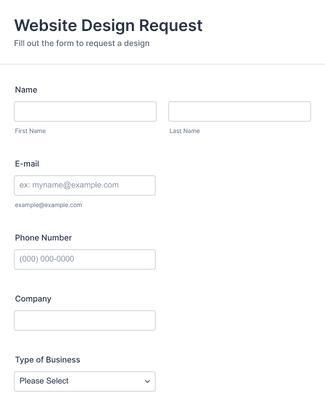dropdown: (14, 371, 157, 393)
input: (14, 174, 157, 198), (167, 100, 314, 123), (13, 101, 159, 124), (13, 248, 158, 271), (14, 309, 158, 332)
label: (14, 17, 207, 35), (14, 40, 152, 48), (15, 232, 74, 243), (15, 356, 81, 365), (15, 295, 53, 305), (15, 160, 41, 169), (14, 87, 39, 95)
